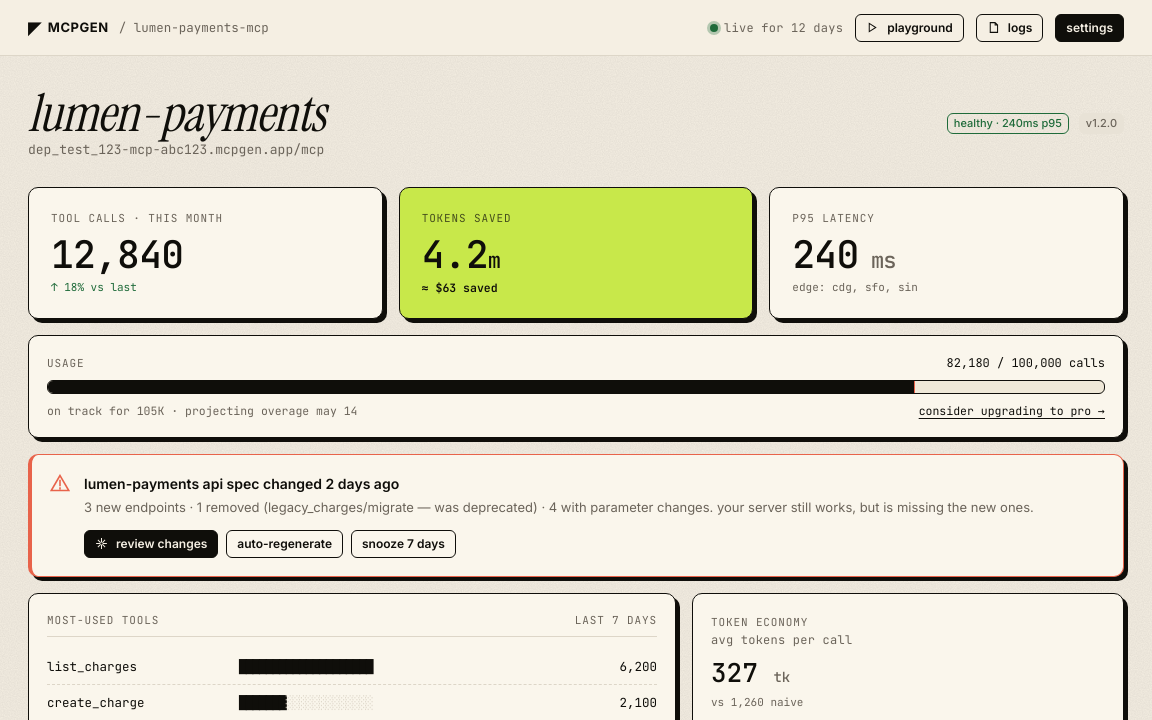
<Dashboard> › shows drift banner + opens drift modal on "review changes"
Expected: the text "lumen-payments api spec changed 2 days ago" is shown, left=84, top=475, right=399, bottom=492
Click the button "review changes".
click(151, 544)  # box left=84, top=530, right=218, bottom=558
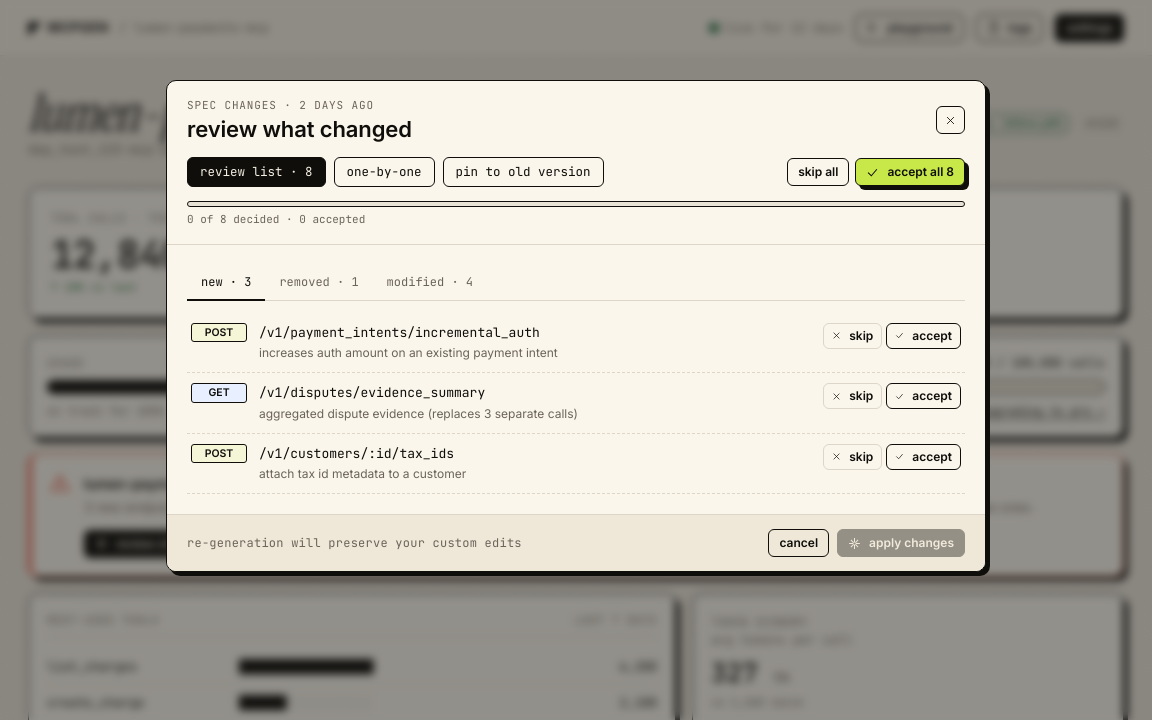
Result: the element with test id "drift-modal" is shown
